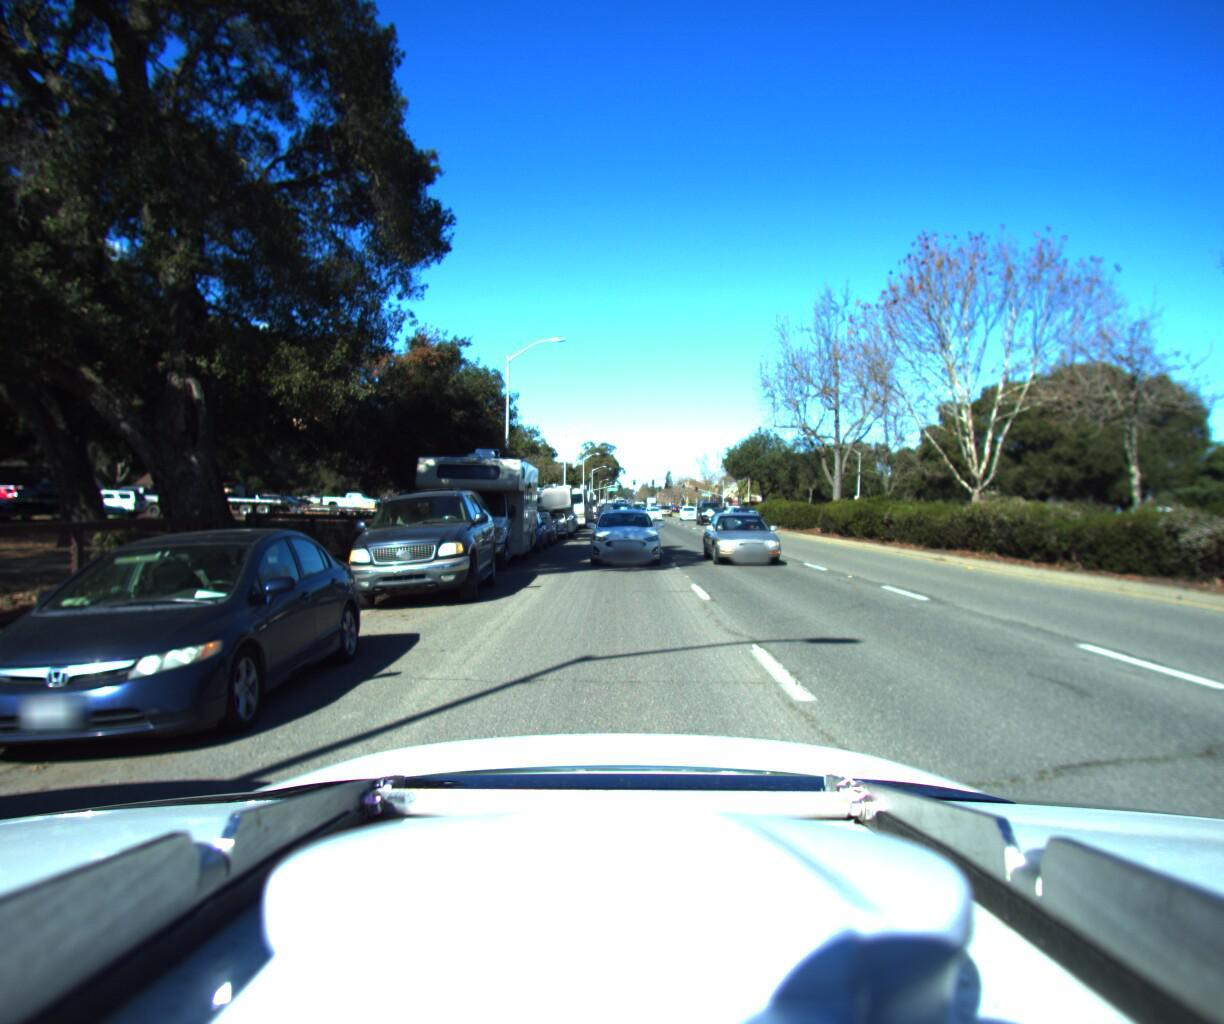car: (0, 510, 386, 793), (312, 470, 509, 616), (703, 500, 804, 566), (591, 500, 665, 562), (488, 500, 550, 547), (502, 502, 560, 542), (696, 498, 728, 518), (679, 497, 701, 514), (641, 495, 661, 513)
other_vehicle: (397, 430, 539, 571), (514, 473, 576, 536), (542, 475, 589, 523), (554, 479, 595, 519), (570, 484, 599, 513)
